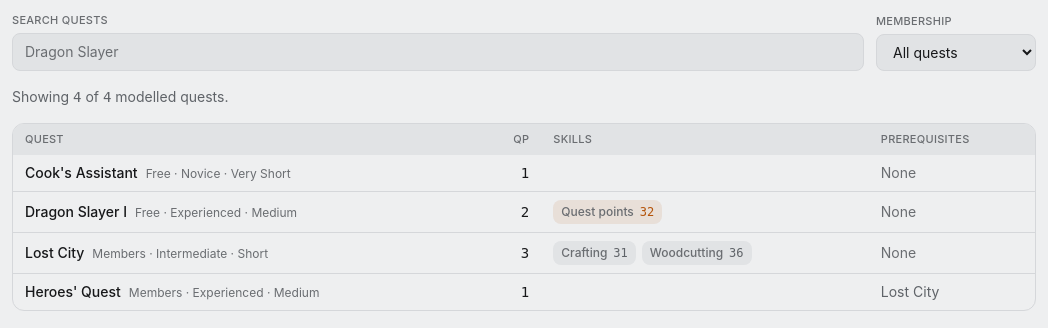
Test case: QuestIndex › states when nothing matches, and why that may be
In the search field labelled "Search quests": (438,52) [12,32,864,70], type "zzzz"
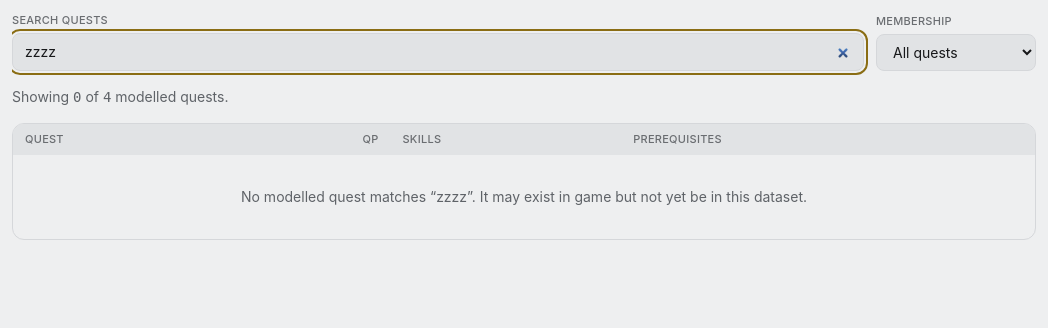
Expected: the text "not yet be in this dataset" is shown, [467,188,807,205]
